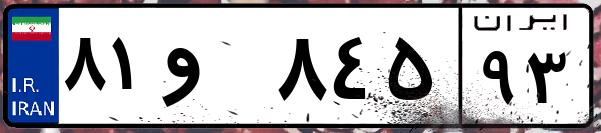1: (110, 28, 158, 98)
3: (525, 38, 570, 115)
4: (330, 28, 385, 110)
5: (385, 28, 445, 110)
8: (270, 28, 330, 110), (57, 26, 110, 100)
9: (475, 38, 525, 113)
و: (158, 20, 270, 120)
